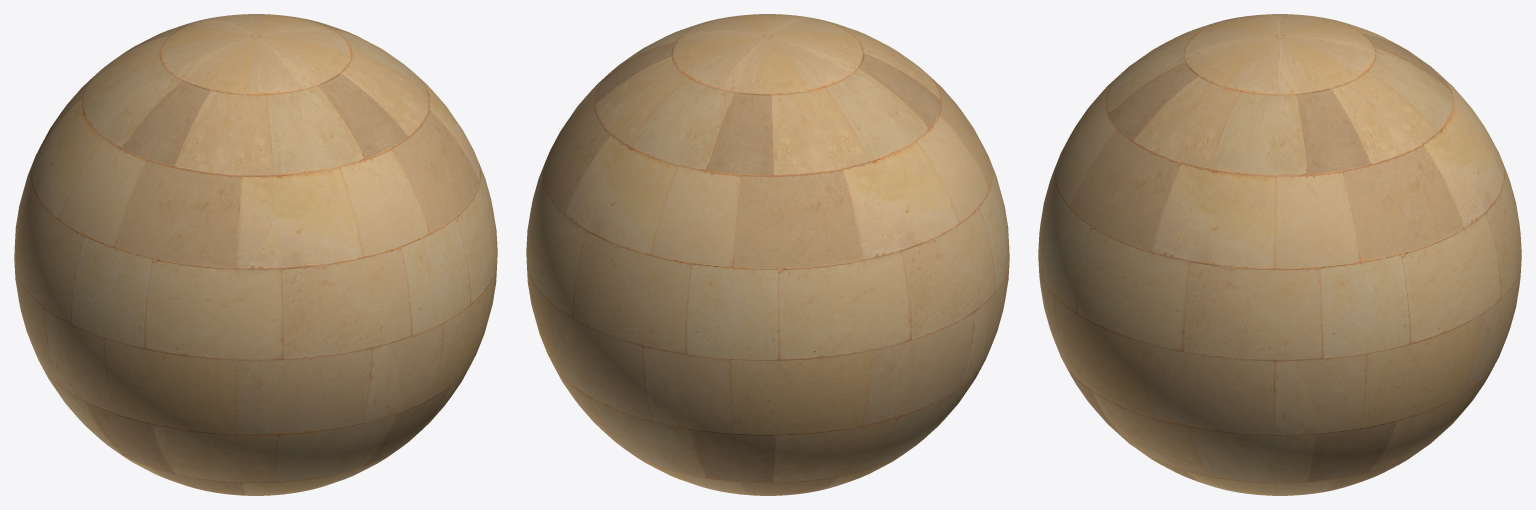
The model's file is pbrballglb.glb.
3 views of the same model, side by side, from view 1: azimuth 30°, elevation 25°; view 2: azimuth 150°, elevation 25°; view 3: azimuth 270°, elevation 25° (orthographic).
Parts seen in each view (by area): view 1: Sphere; view 2: Sphere; view 3: Sphere.
Part boxes in pixels (x1,y1,x2,y2): Sphere: [14, 14, 497, 495]; Sphere: [526, 14, 1009, 495]; Sphere: [1038, 14, 1521, 495].
Bounding box in the file's own units: 4.01 × 4 × 4.01.
Materials: 1 (1 with a texture image).
